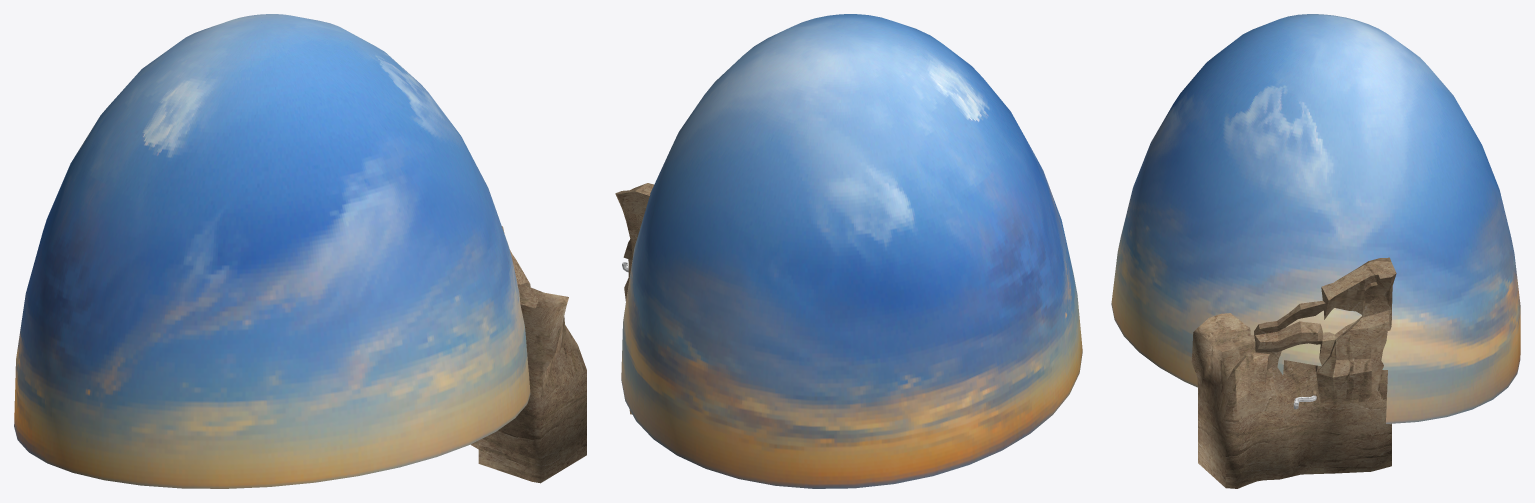
File: CaveMinesConnectors.fbx
3 views of the same model, side by side, from view 1: azimuth 30°, elevation 25°; view 2: azimuth 150°, elevation 25°; view 3: azimuth 270°, elevation 25° (orthographic). The views are drawn at different scales.
Parts seen in each view (by area): view 1: B_SkyBox_FBX__1_, SwampRockConnectionHole; view 2: B_SkyBox_FBX__1_, SwampRockConnectionHole; view 3: B_SkyBox_FBX__1_, SwampRockConnectionHole.
Boxes of the visible parts, x1,y1,x2,y2 form: B_SkyBox_FBX__1_: [14, 14, 530, 488]; SwampRockConnectionHole: [470, 226, 586, 483]; B_SkyBox_FBX__1_: [621, 14, 1082, 488]; SwampRockConnectionHole: [615, 183, 653, 414]; B_SkyBox_FBX__1_: [1111, 14, 1520, 423]; SwampRockConnectionHole: [1191, 257, 1396, 488].
Bounding box in the file's own units: 97.97 × 87.08 × 84.5.
